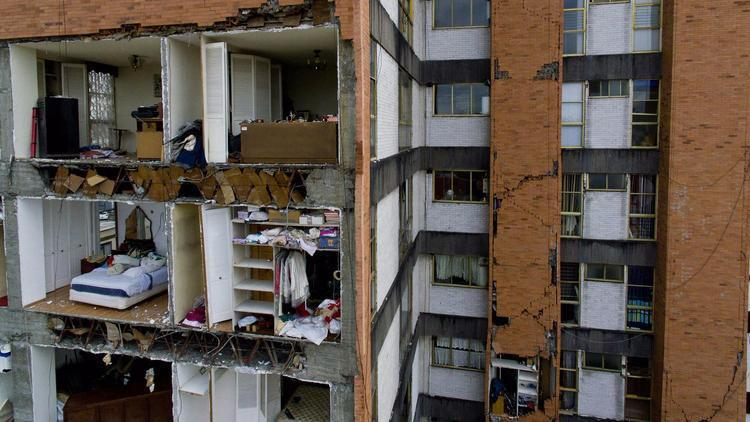destroyed: (7, 8, 409, 422)
major: (1, 0, 1, 1)
